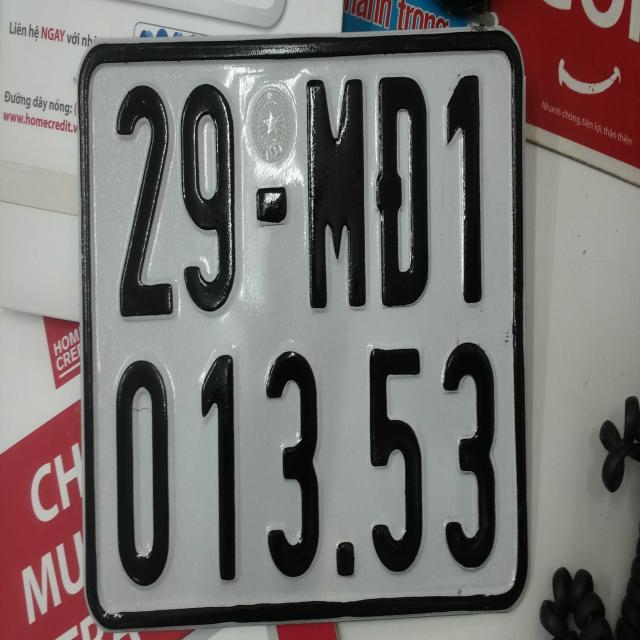0: (110, 350, 177, 592)
1: (194, 348, 246, 586), (441, 66, 491, 308)
2: (108, 77, 178, 326)
3: (438, 336, 502, 574), (260, 344, 324, 582)
5: (364, 338, 426, 578)
9: (176, 75, 242, 319)
D: (372, 66, 432, 310)
U: (304, 72, 368, 308)
